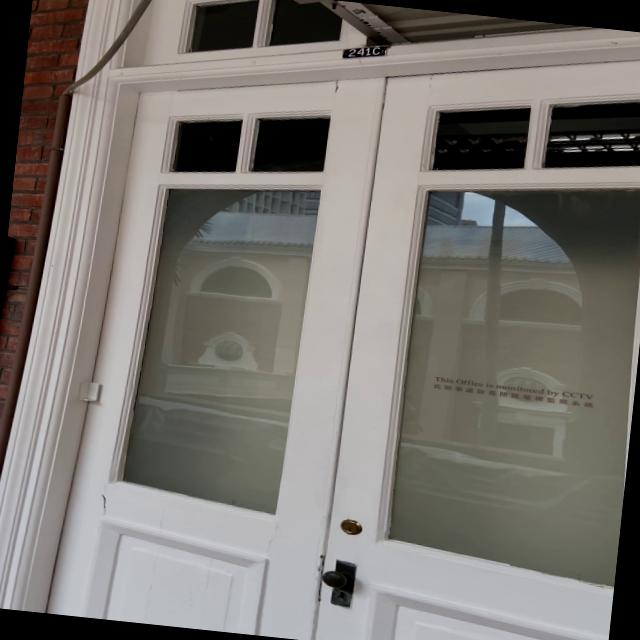room241c: (338, 39, 389, 65)
